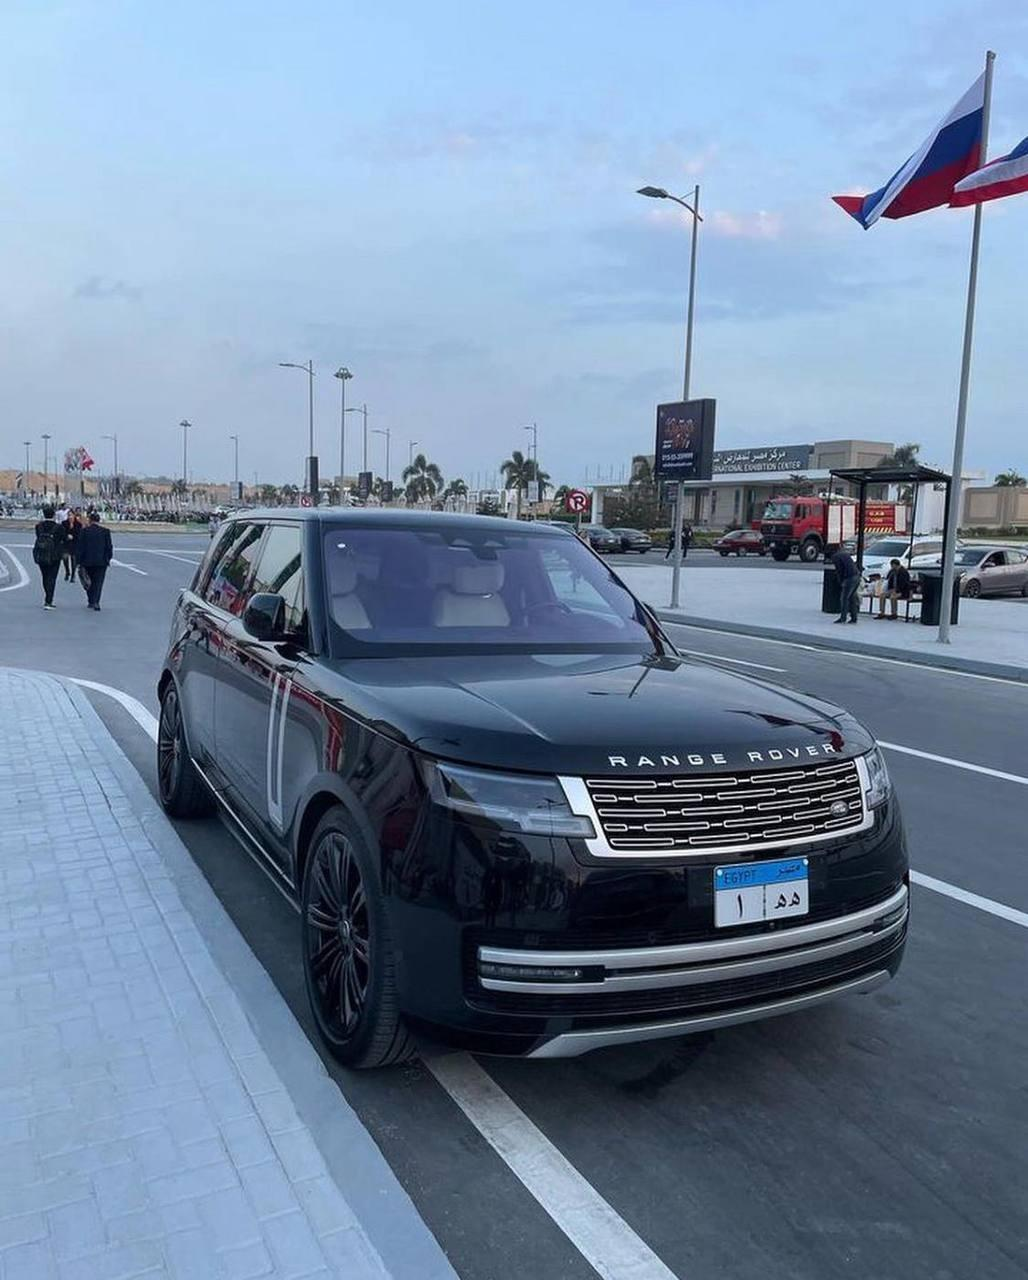1: (734, 892, 747, 919)
Heeh: (773, 892, 787, 909), (788, 890, 802, 907)
License Plate: (711, 855, 810, 929)
